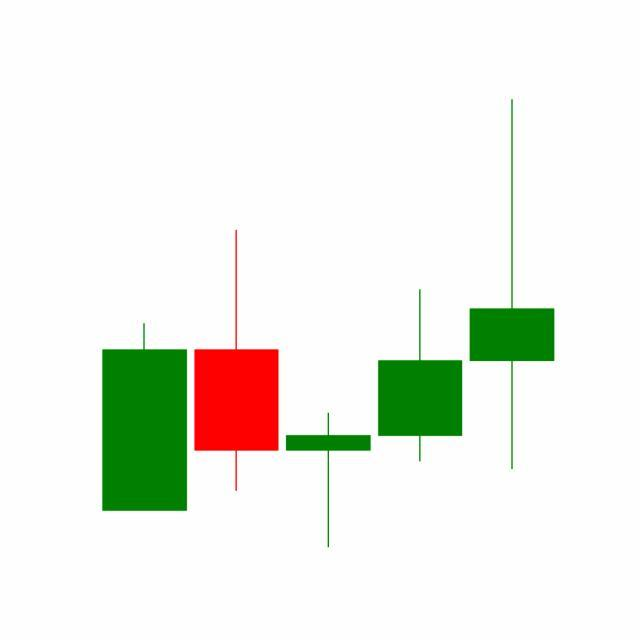Spinning Top: (466, 95, 559, 473)
